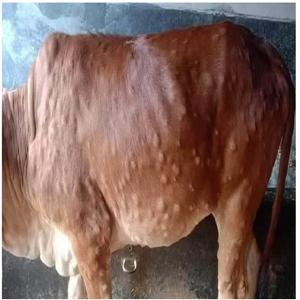lumpy skin diesease: (1, 19, 294, 299)
